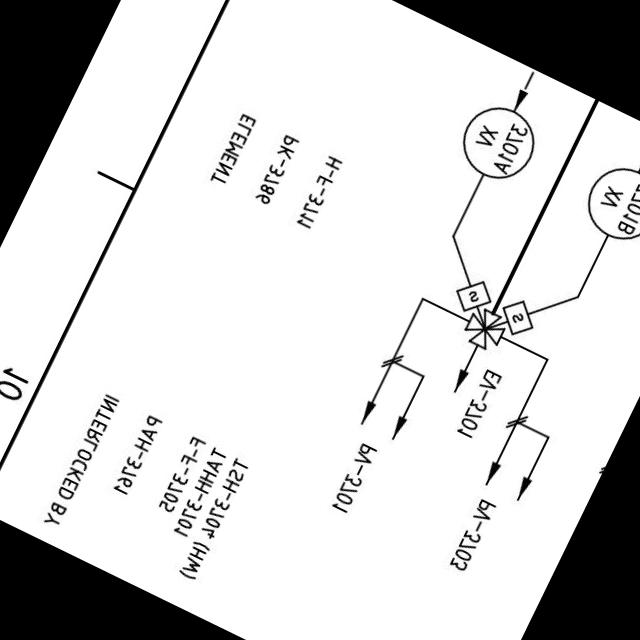4W: (452, 298, 514, 358)
